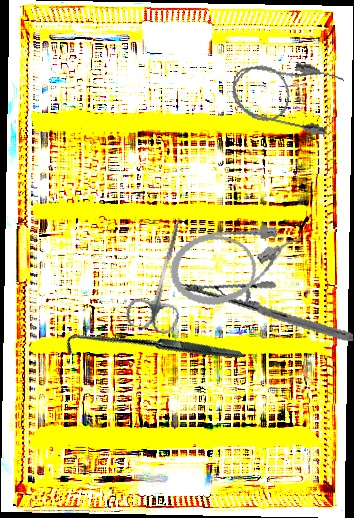Cannula: (163, 214, 311, 314), (226, 49, 346, 139)
Hook Surgical: (60, 258, 245, 443)
Iris Scissors: (123, 211, 203, 337)
Needle Holder: (180, 250, 354, 374)
